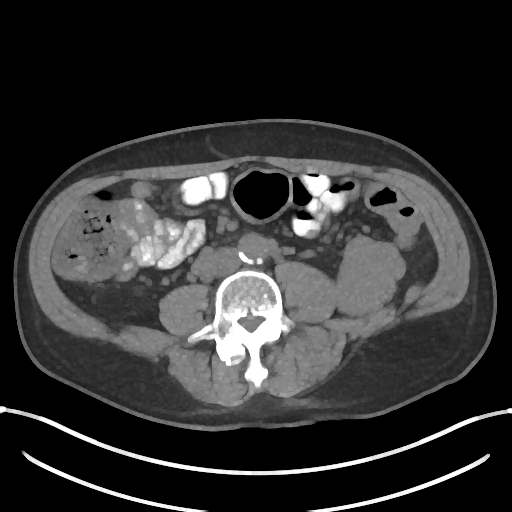Lesion: (336, 232, 405, 315)
